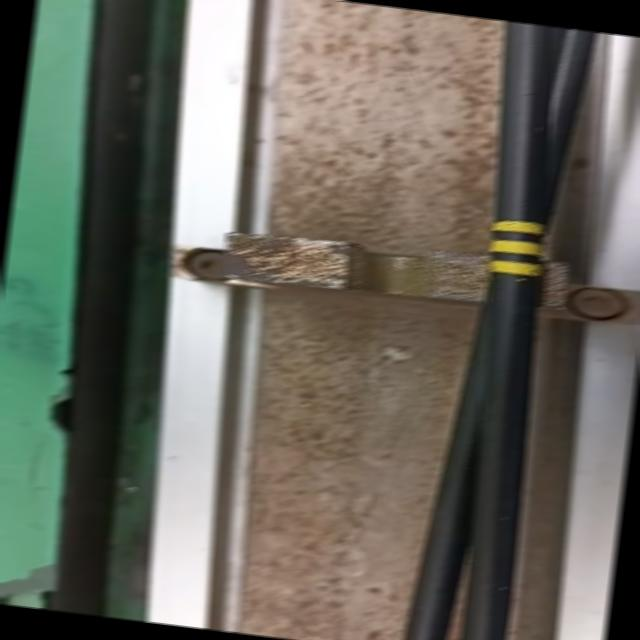yellow: (488, 216, 548, 279)
